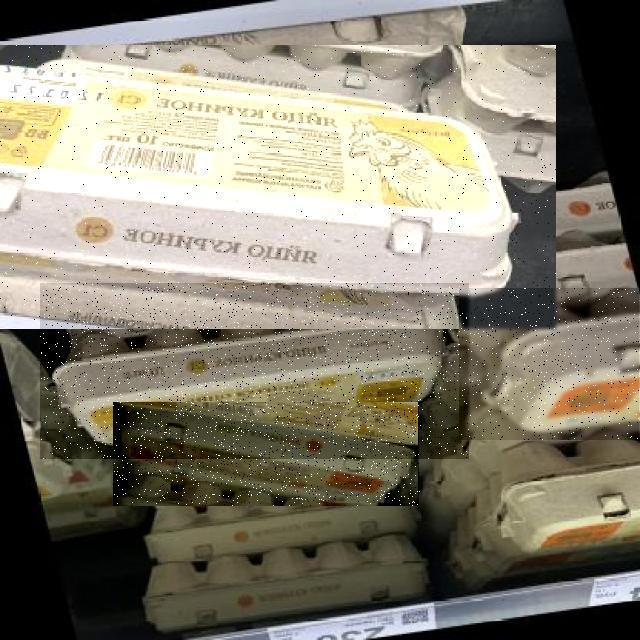Eggs: (1, 45, 557, 329), (40, 283, 469, 459), (114, 402, 422, 506), (459, 288, 639, 440)
